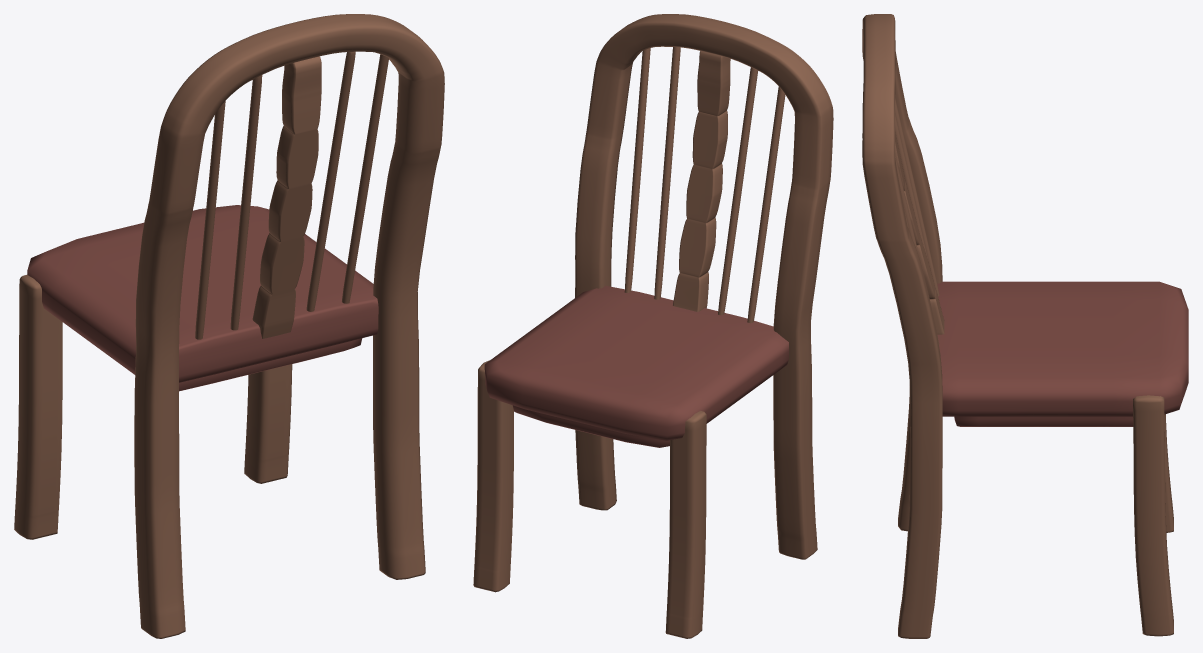
Rendered from Chaise.fbx.
The picture shows the model from 3 angles, left to right: view 1: azimuth 30°, elevation 25°; view 2: azimuth 150°, elevation 25°; view 3: azimuth 270°, elevation 25°; orthographic projection. The views are drawn at different scales.
Visible parts, largest first — view 1: pCube9; view 2: pCube9; view 3: pCube9.
Part boxes in pixels (box(x1,y1,x2,y2)): pCube9: box(14, 14, 444, 638); pCube9: box(473, 14, 833, 638); pCube9: box(862, 14, 1188, 638).
Bounding box in the file's own units: 4.3 × 8.67 × 4.74.
